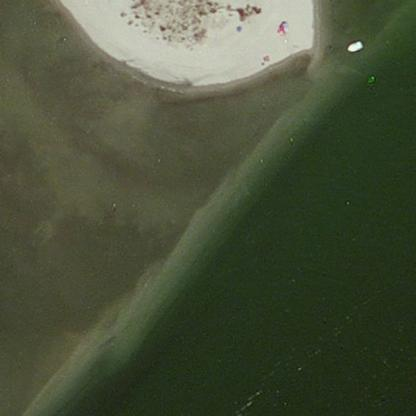ship: (341, 32, 366, 58)
